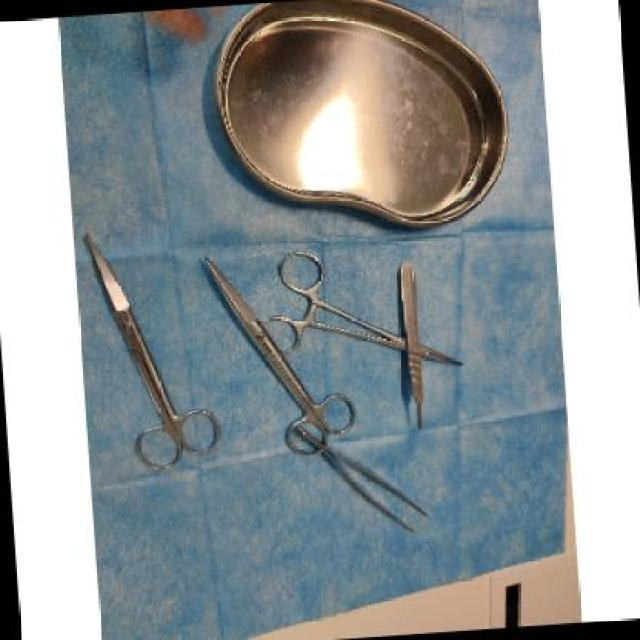tools_table: (56, 2, 562, 544)
